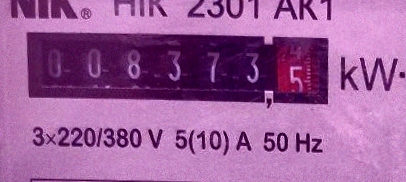0: (43, 44, 64, 81), (83, 44, 103, 81)
3: (240, 48, 263, 86), (162, 46, 184, 84)
4: (286, 42, 305, 62)
5: (286, 63, 306, 93)
7: (202, 47, 221, 86)
8: (122, 45, 144, 82)
screen: (19, 23, 338, 118)
